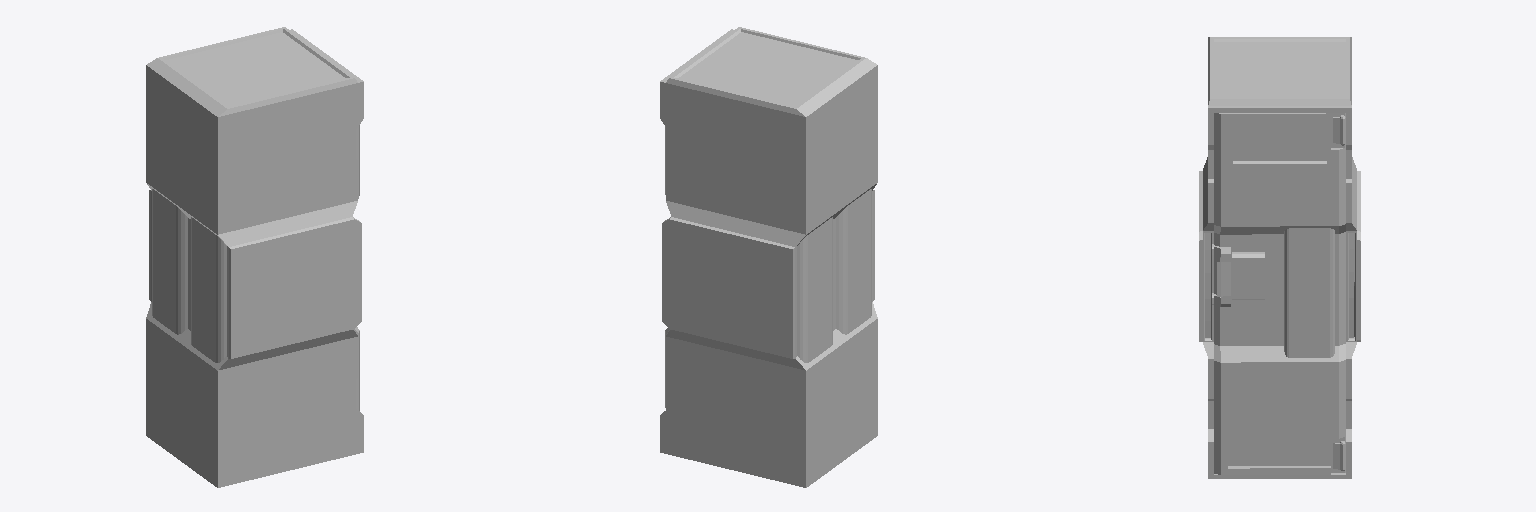
The model's file is Scifi_Locker.obj.
3 renders of one model, left to right at view 1: azimuth 30°, elevation 25°; view 2: azimuth 150°, elevation 25°; view 3: azimuth 270°, elevation 25°, orthographic.
Parts seen in each view (by area): view 1: Locker_low.001_Mesh.046; view 2: Locker_low.001_Mesh.046; view 3: Locker.013_low_Mesh.045, Locker_low.001_Mesh.046.
Boxes of the visible parts, x1,y1,x2,y2 form: Locker_low.001_Mesh.046: [146, 27, 363, 487]; Locker_low.001_Mesh.046: [660, 27, 877, 487]; Locker.013_low_Mesh.045: [1212, 113, 1345, 474]; Locker_low.001_Mesh.046: [1199, 37, 1360, 478].
Size of the model in its own units: 1.02 by 2.48 by 0.9737.